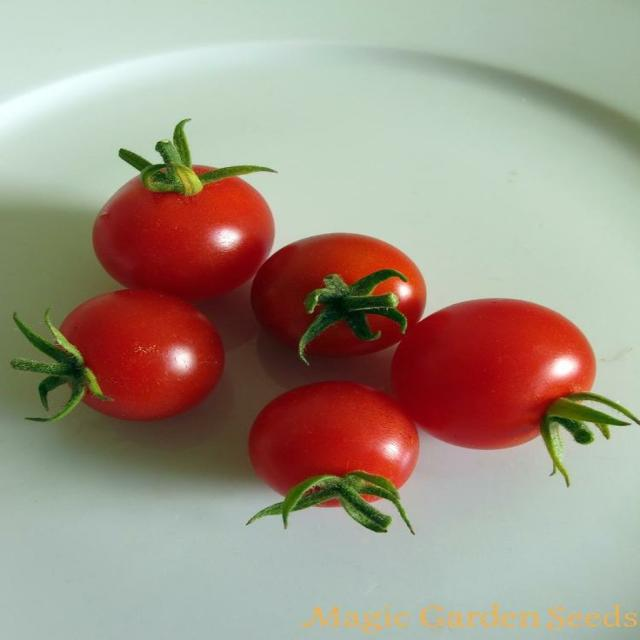tomato: (392, 299, 622, 481), (94, 166, 273, 300), (46, 290, 224, 420), (252, 233, 426, 356), (249, 381, 419, 495)
